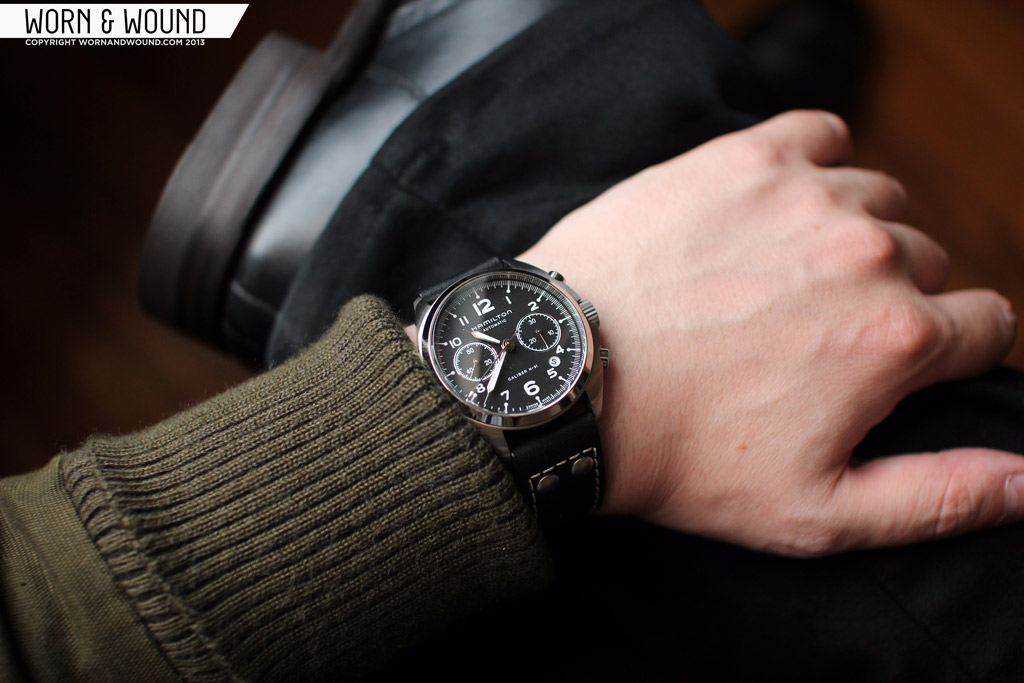clock: (434, 276, 588, 416)
